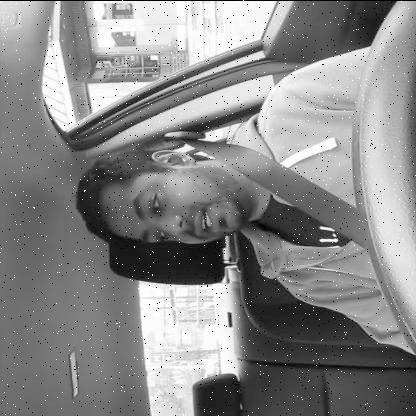seatbelt: (63, 110, 378, 272)
